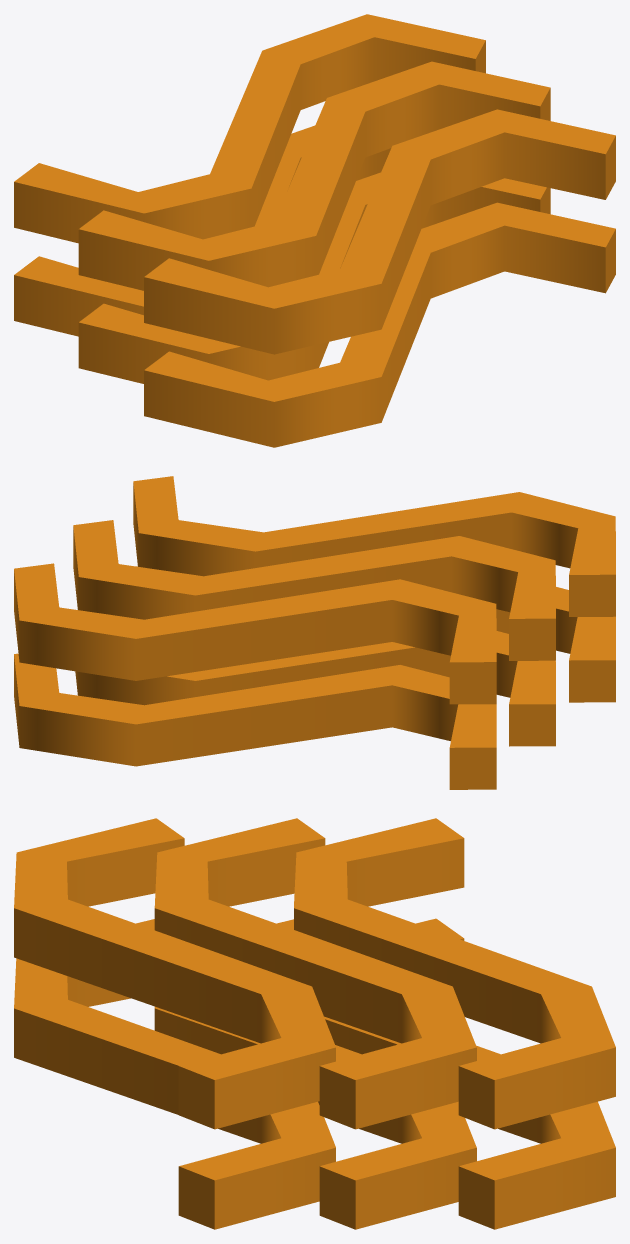
Rendered from noodle.FBX.
3 renders of one model, top to bottom at view 1: azimuth 30°, elevation 25°; view 2: azimuth 150°, elevation 25°; view 3: azimuth 270°, elevation 25°, orthographic. The views are drawn at different scales.
Parts seen in each view (by area): view 1: Box1196; view 2: Box1196; view 3: Box1196.
Boxes of the visible parts, x1=… form: Box1196: x1=14, y1=14, x2=615, y2=447; Box1196: x1=14, y1=476, x2=615, y2=789; Box1196: x1=14, y1=818, x2=615, y2=1229.
Bounding box in the file's own units: 1.43 × 0.3807 × 1.39.
